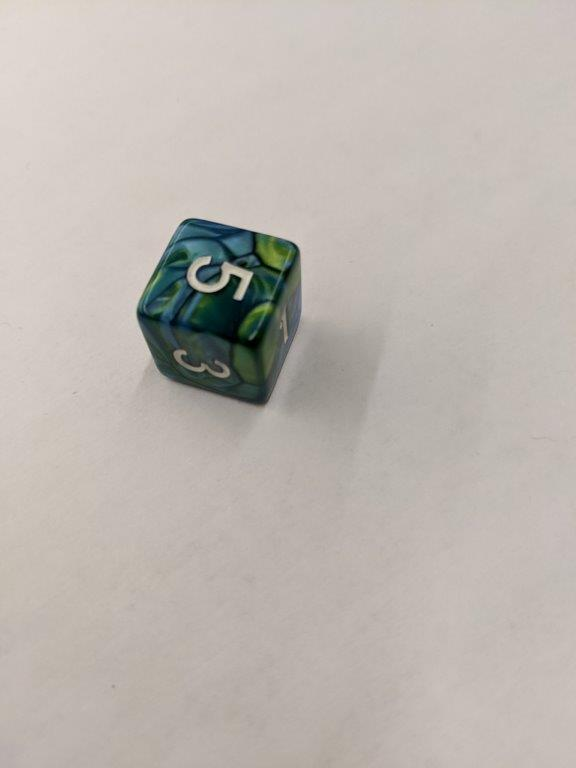d6-5: (137, 218, 303, 405)
